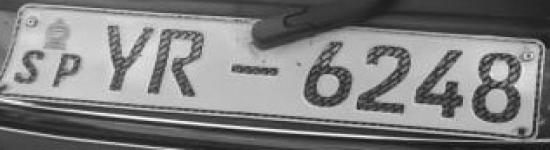-: (225, 58, 285, 83)
2: (354, 42, 412, 118)
4: (413, 46, 468, 121)
6: (299, 35, 354, 109)
8: (467, 46, 526, 130)
P: (51, 50, 84, 88)
R: (148, 20, 209, 102)
S: (12, 47, 46, 85)
Y: (100, 18, 156, 95)
